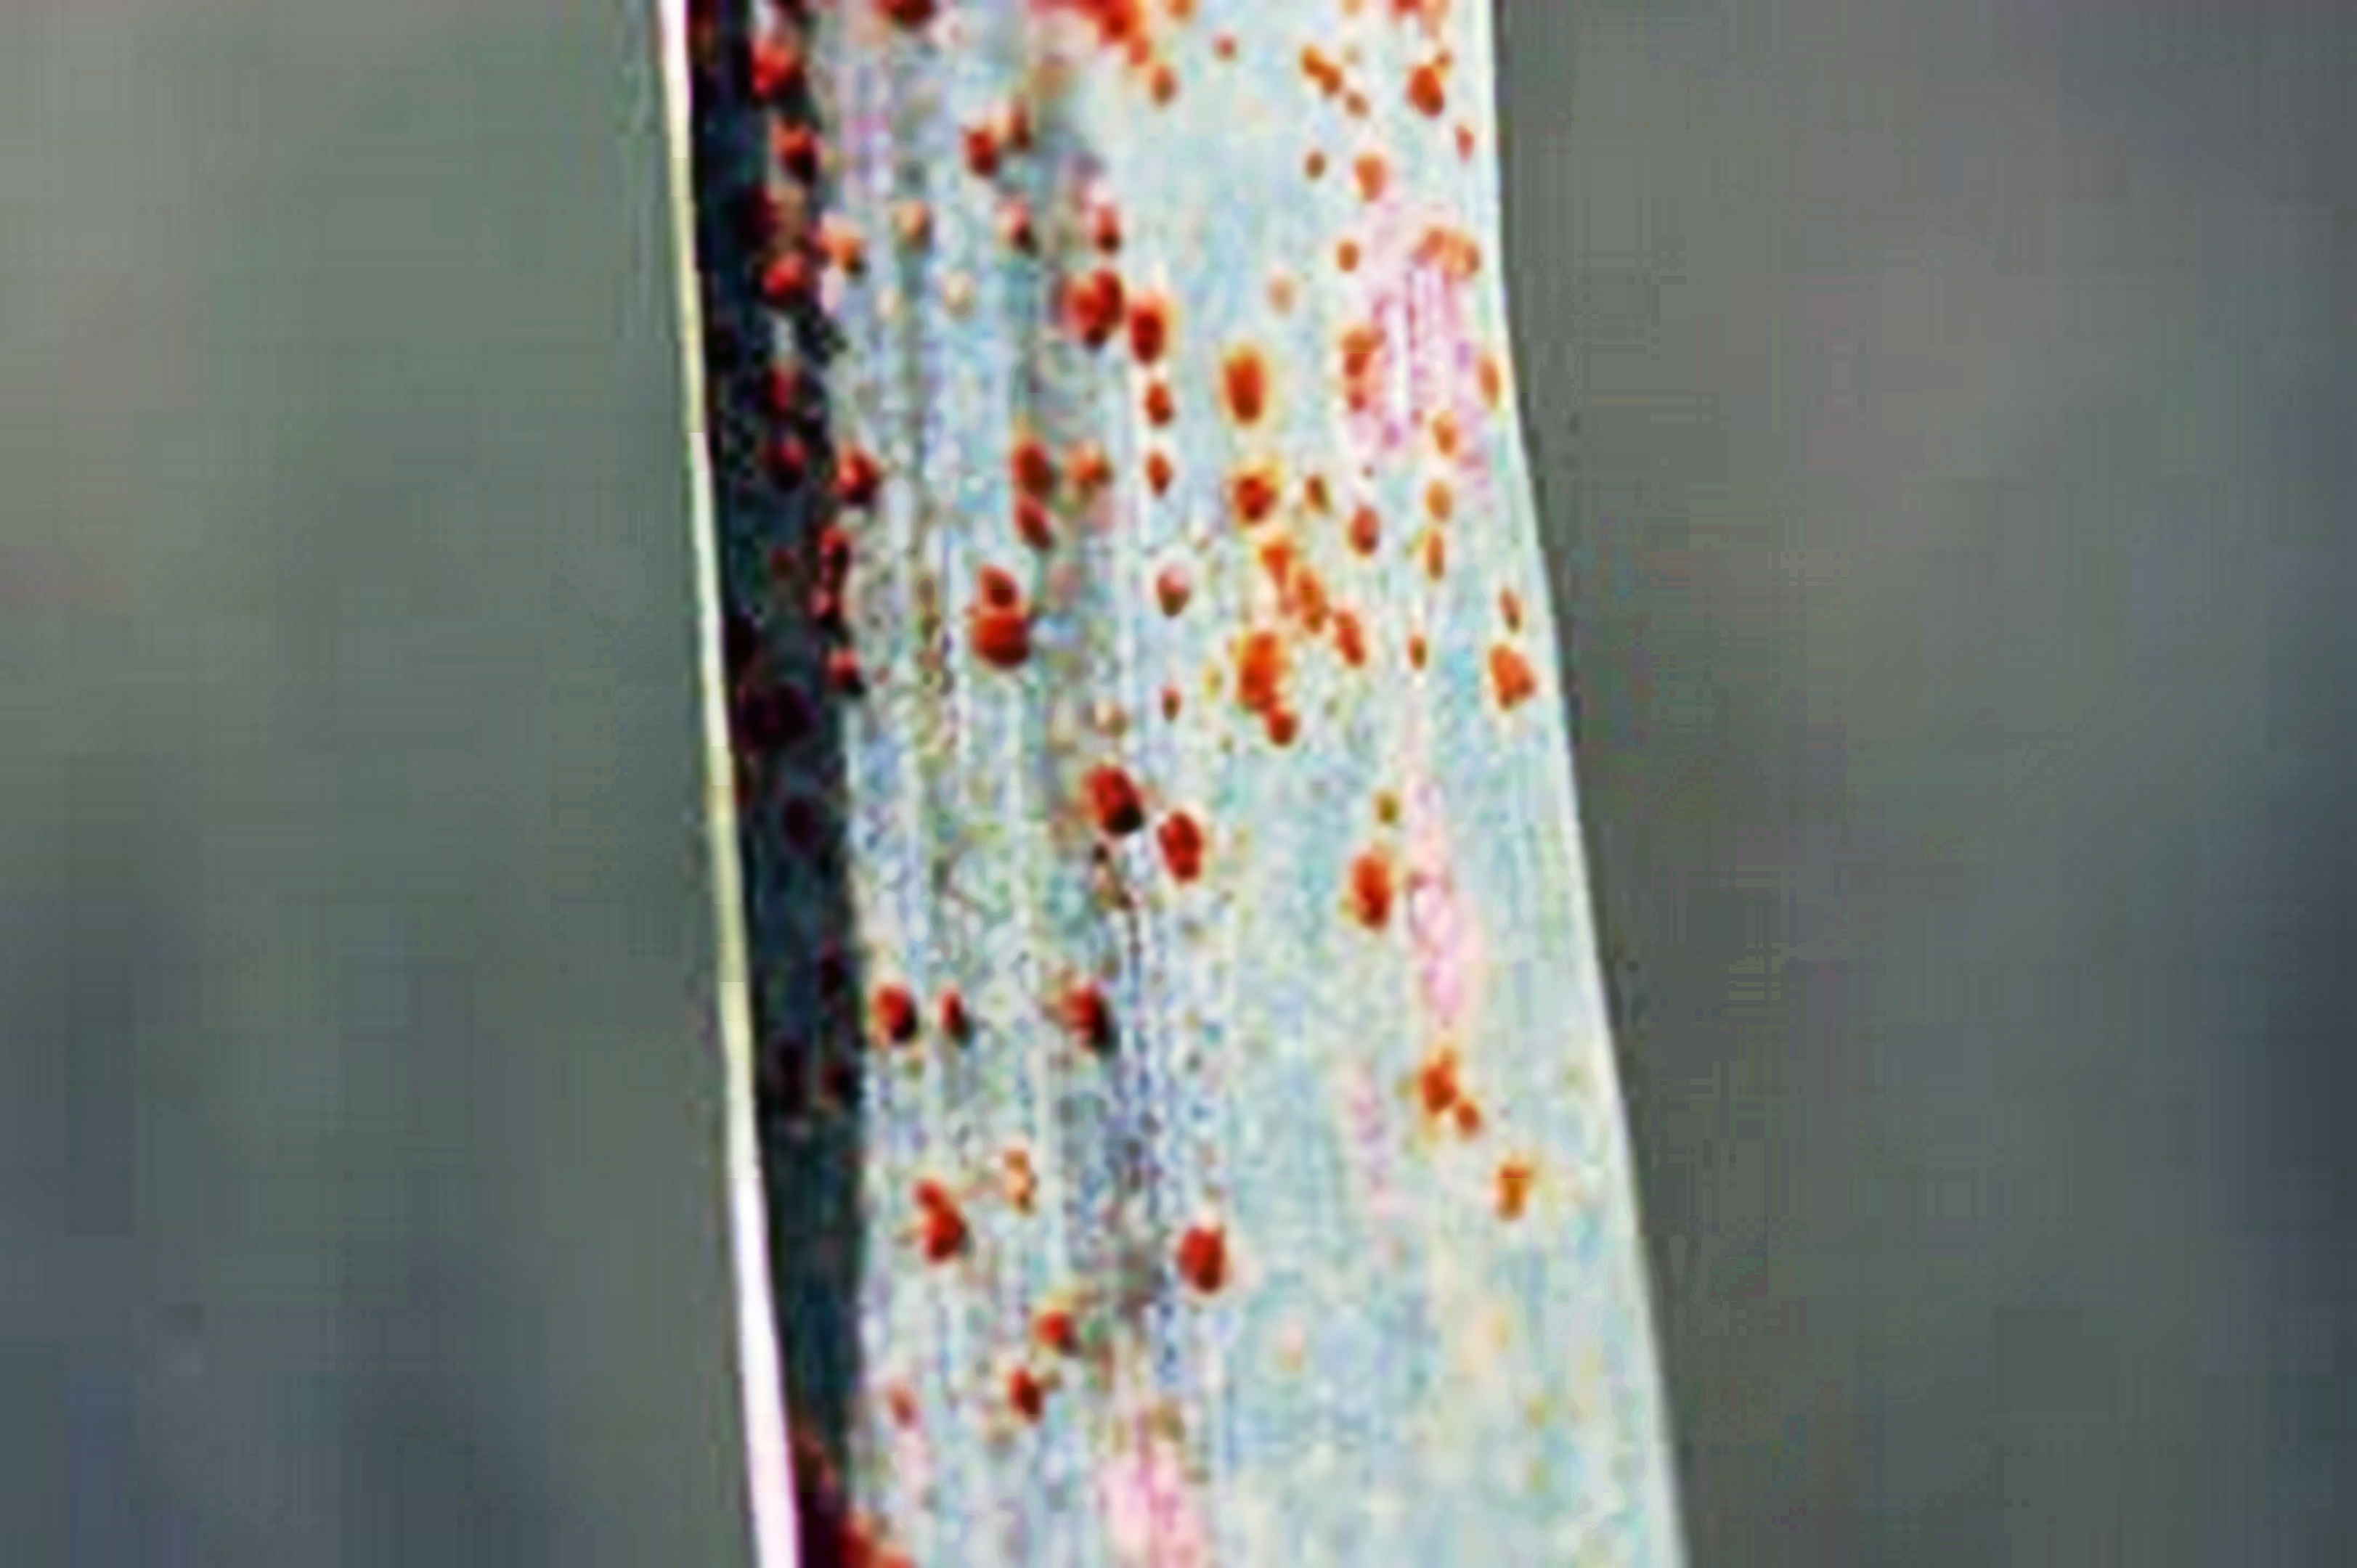Leaf Rust: (745, 77, 1647, 1400)
